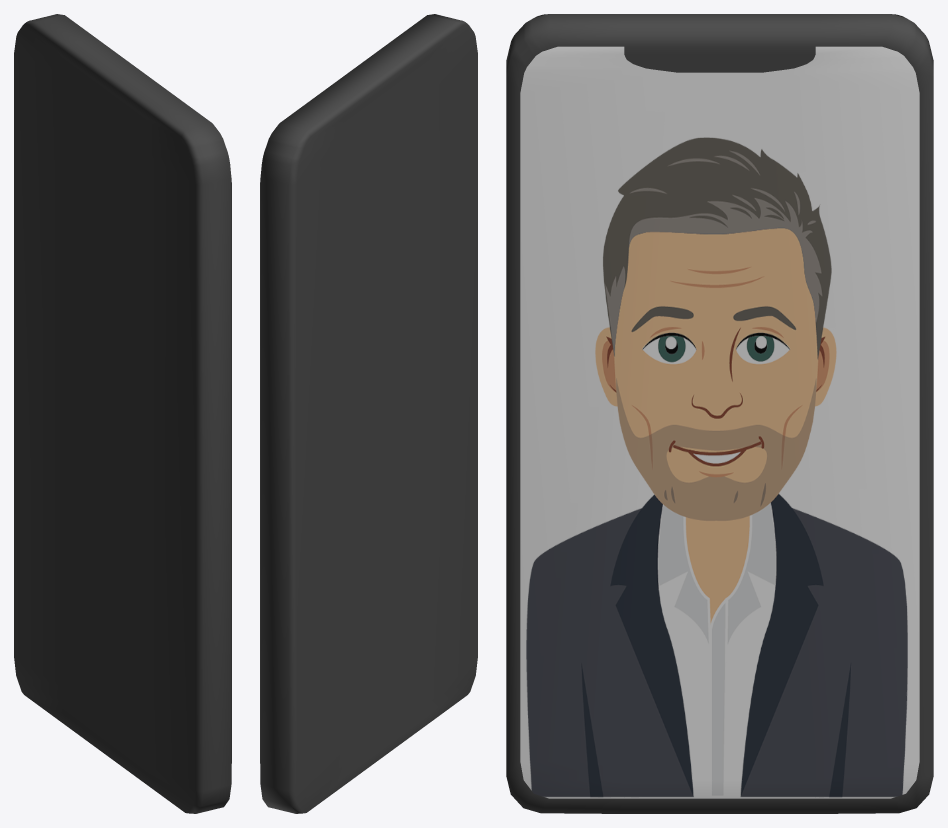
Rendered from Phone-orig.gltf.
3 renders of one model, left to right at view 1: azimuth 30°, elevation 25°; view 2: azimuth 150°, elevation 25°; view 3: azimuth 270°, elevation 25°, orthographic. The views are drawn at different scales.
Visible parts, largest first — view 1: Cube; view 2: Cube; view 3: Cube.
Part boxes in pixels (x1,y1,x2,y2): Cube: (14,14,231,813); Cube: (260,14,477,813); Cube: (506,14,933,813).
Bounding box in the file's own units: 0.2145 × 3.44 × 1.7.
Materials: 2 (1 with a texture image).
